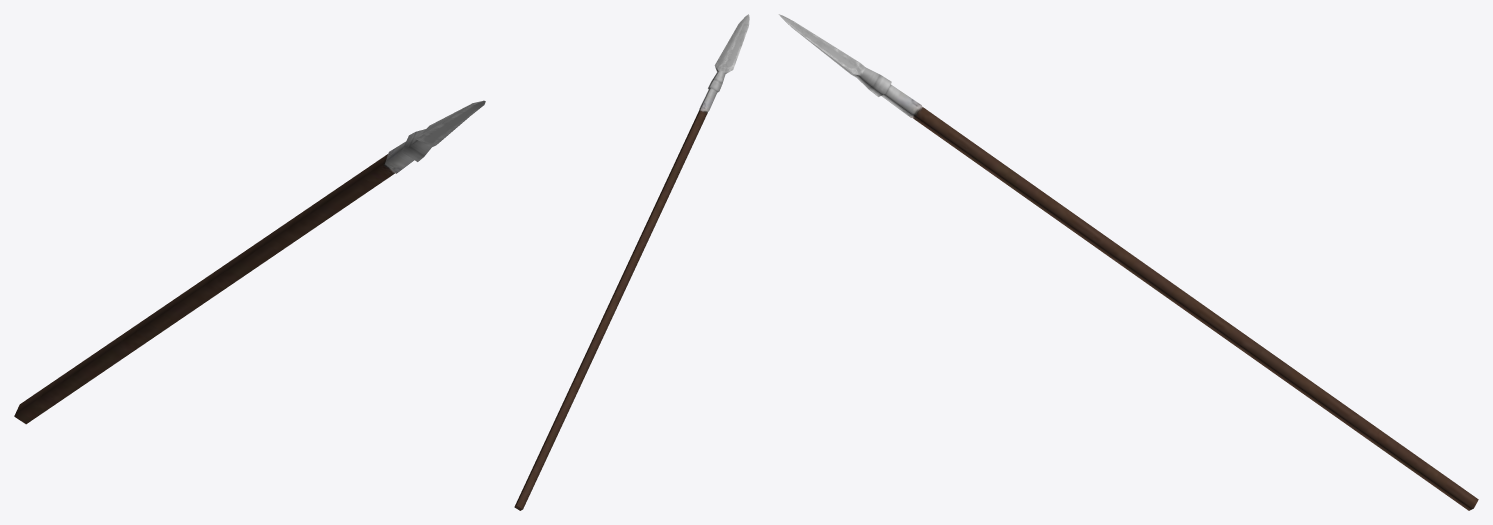
File: rider-spear-slice-base.glb
3 renders of one model, left to right at view 1: azimuth 30°, elevation 25°; view 2: azimuth 150°, elevation 25°; view 3: azimuth 270°, elevation 25°, orthographic. The views are drawn at different scales.
Size of the model in its own units: 0.1105 by 1.87 by 2.39.
1 material, 1 textured.
